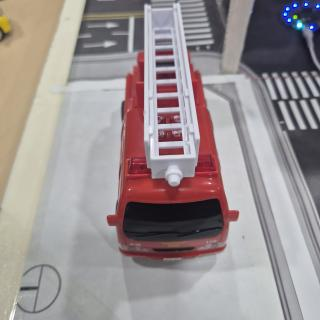Fire_truck: (107, 4, 239, 260)
